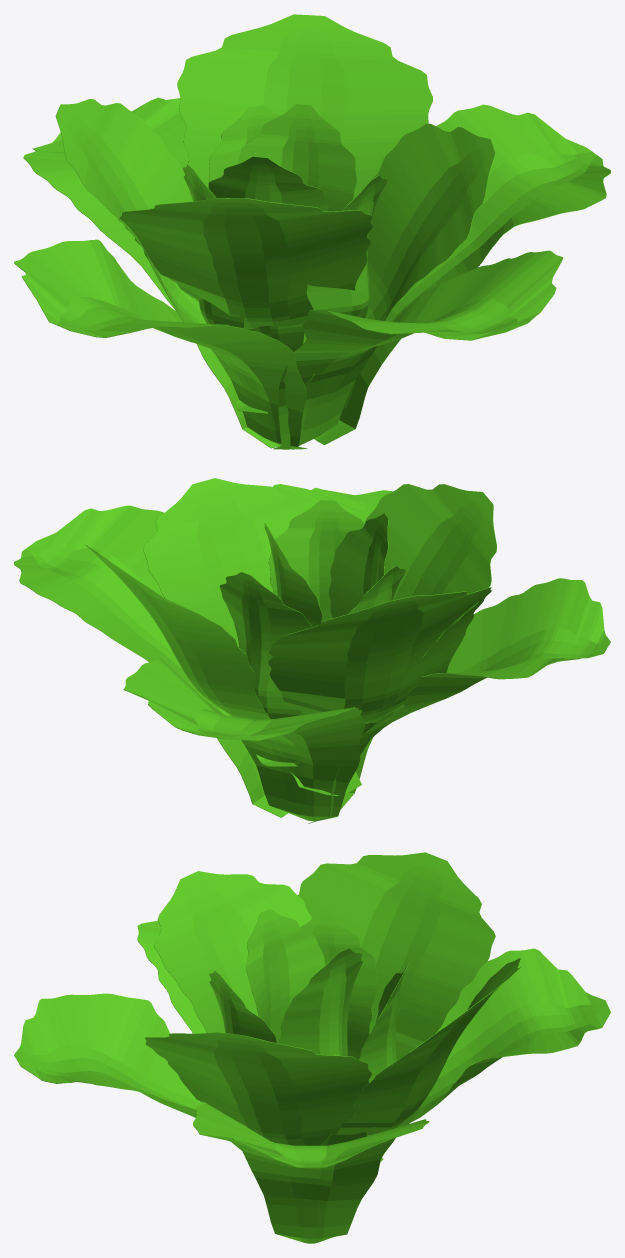
File: lettuce3.fbx
3 renders of one model, top to bottom at view 1: azimuth 30°, elevation 25°; view 2: azimuth 150°, elevation 25°; view 3: azimuth 270°, elevation 25°, orthographic. The views are drawn at different scales.
Visible parts, largest first — view 1: lettuce stage 3; view 2: lettuce stage 3; view 3: lettuce stage 3.
Boxes of the visible parts, x1,y1,x2,y2 form: lettuce stage 3: (14, 14, 610, 449); lettuce stage 3: (14, 478, 610, 823); lettuce stage 3: (14, 852, 610, 1243).
Bounding box in the file's own units: 162 × 86.95 × 156.
